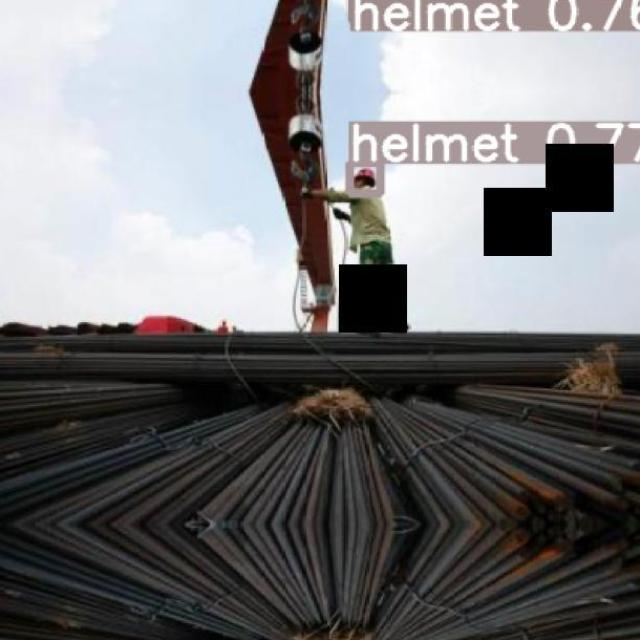helmet: (352, 167, 374, 186)
